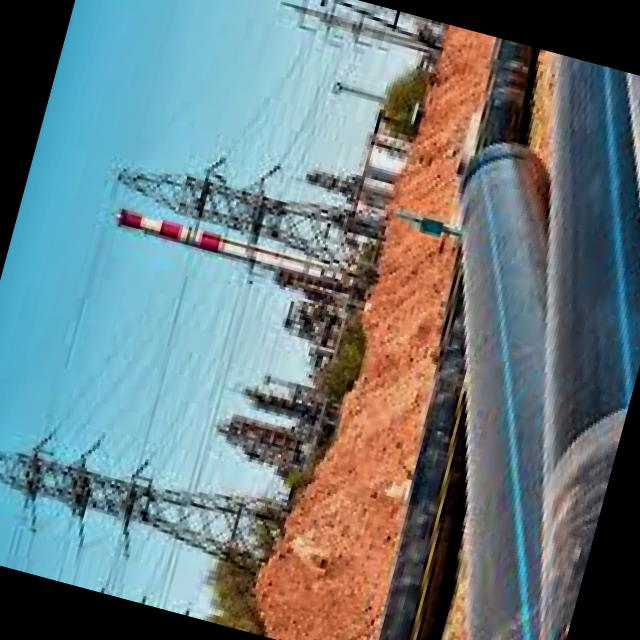gas: (462, 54, 640, 640)
